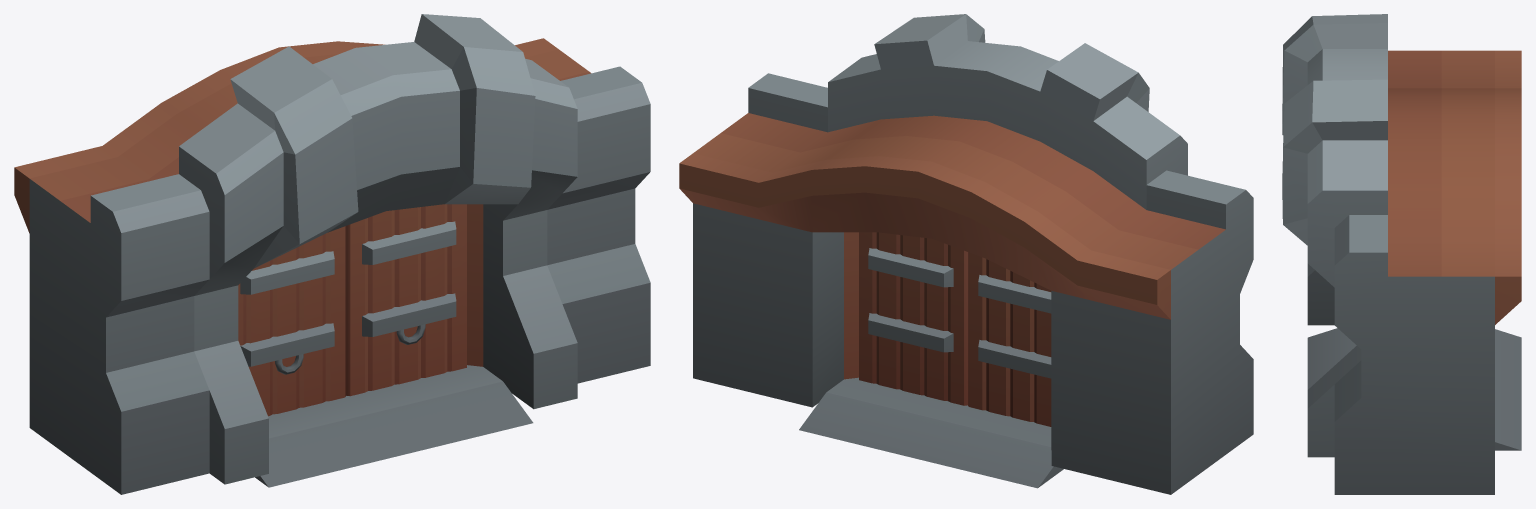
The model's file is H_wall_straight_gate.glb.
3 renders of one model, left to right at view 1: azimuth 30°, elevation 25°; view 2: azimuth 150°, elevation 25°; view 3: azimuth 270°, elevation 25°, orthographic. The views are drawn at different scales.
Parts seen in each view (by area): view 1: wall_straight_gate, wall_straight_gate_door_left, wall_straight_gate_door_right; view 2: wall_straight_gate, wall_straight_gate_door_left, wall_straight_gate_door_right; view 3: wall_straight_gate.
Part boxes in pixels (x1=…): wall_straight_gate: x1=14, y1=14, x2=650, y2=494; wall_straight_gate_door_left: x1=346, y1=204, x2=466, y2=396; wall_straight_gate_door_right: x1=238, y1=226, x2=346, y2=416; wall_straight_gate: x1=679, y1=14, x2=1253, y2=494; wall_straight_gate_door_left: x1=859, y1=232, x2=967, y2=405; wall_straight_gate_door_right: x1=968, y1=252, x2=1051, y2=426; wall_straight_gate: x1=1282, y1=14, x2=1521, y2=494.
Size of the model in its own units: 2 by 1.41 by 0.8956.
